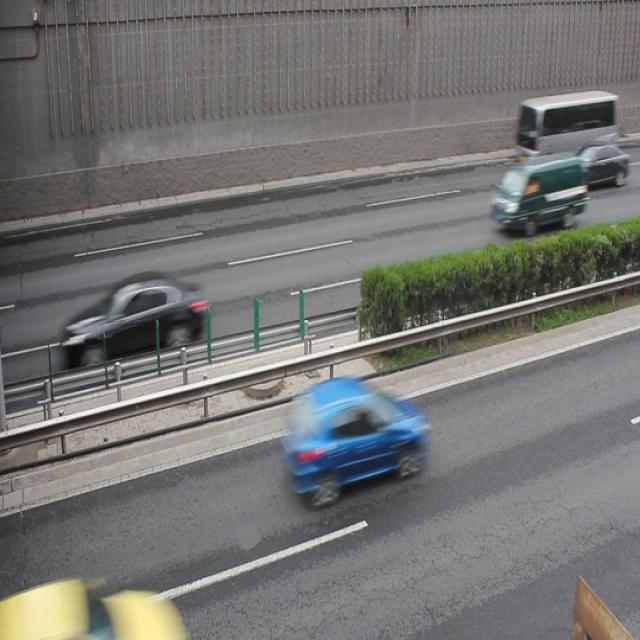car: (287, 380, 424, 502), (64, 277, 205, 374), (572, 142, 629, 190)
truck: (492, 160, 585, 230)
van: (516, 90, 618, 160)
